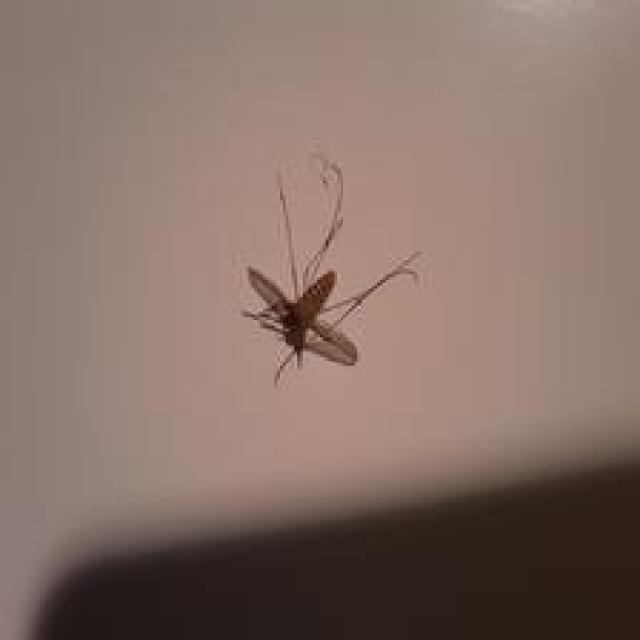Culex: (240, 150, 423, 387)
